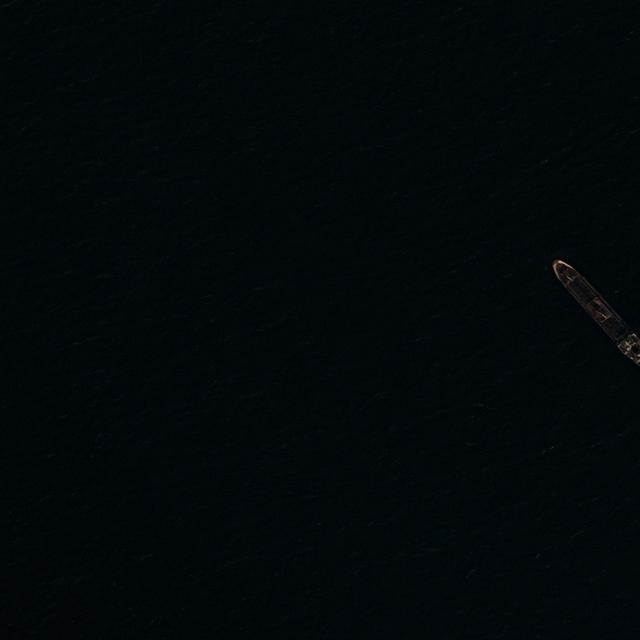Oil Tanker: (553, 259, 640, 367)
